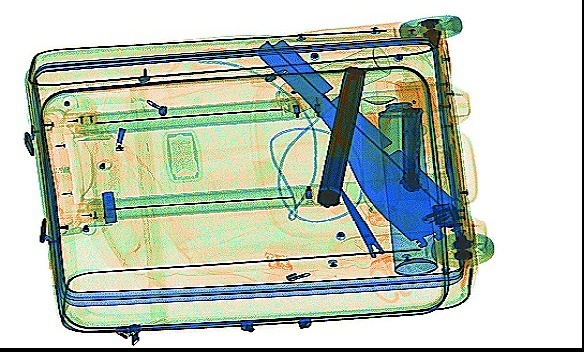knife: (395, 103, 424, 191)
pressure: (372, 76, 438, 276), (268, 39, 392, 117), (357, 93, 402, 227)
scissors: (337, 186, 413, 301)
